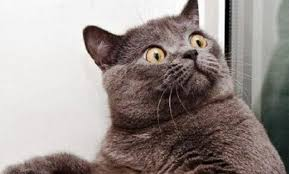kedi: (59, 2, 283, 153)
